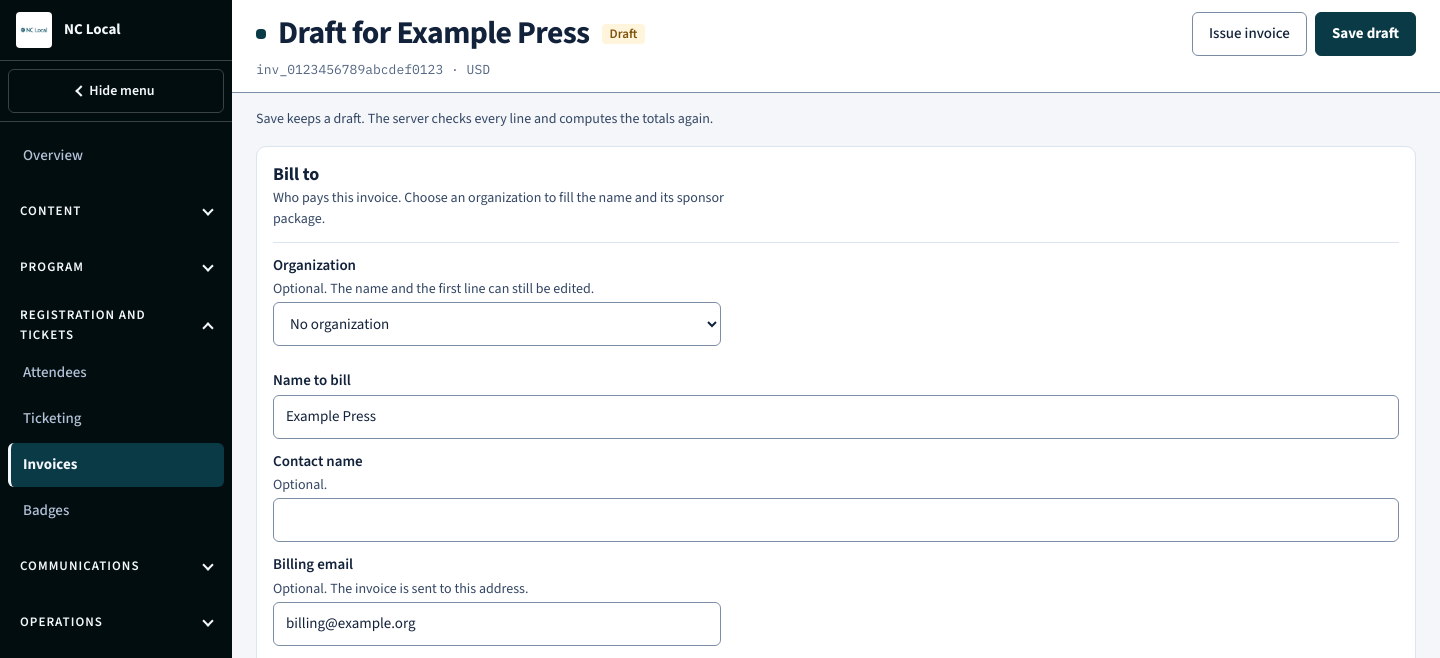
Test case: issuing an invoice › issues a saved draft after a confirmation that names the next number
Expected: the heading "Draft for Example Press" is shown, left=278, top=15, right=590, bottom=53
Click the button "Issue invoice".
click(1249, 34)  # box left=1192, top=12, right=1307, bottom=56
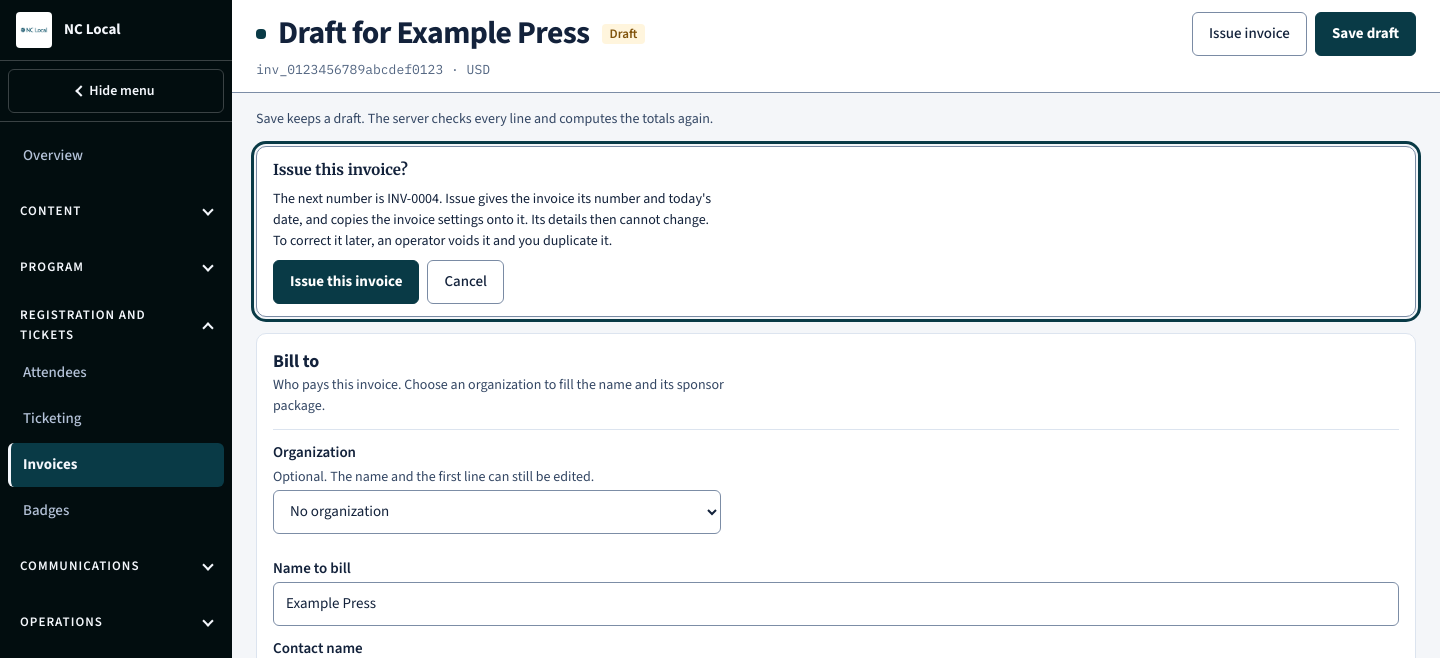
Expected: the heading "Issue this invoice?" is shown, left=273, top=160, right=408, bottom=178
Expected: the text "The next number is INV-0004." is shown, left=273, top=189, right=445, bottom=209
Click the button "Issue this invoice".
click(346, 282)  # box left=273, top=260, right=420, bottom=304
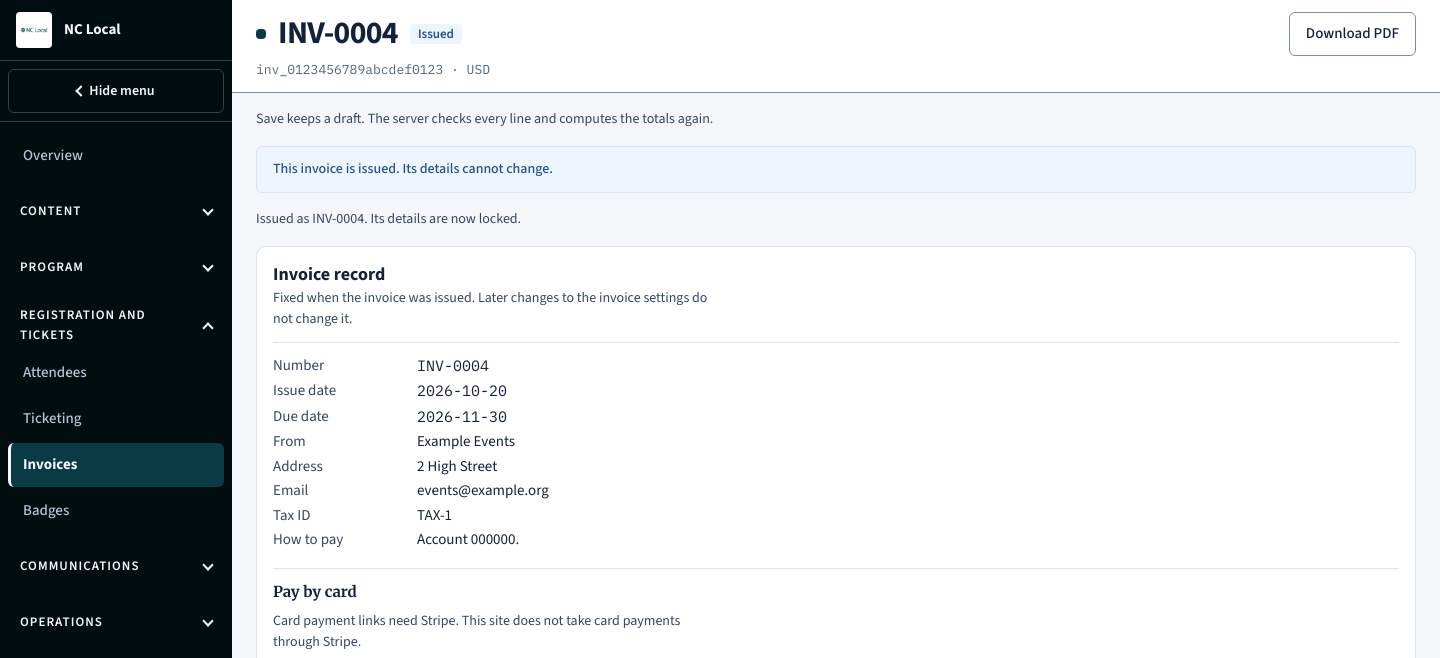
Expected: the heading "INV-0004" is shown, left=278, top=15, right=398, bottom=53
Expected: the button "Download PDF" is shown, left=1289, top=12, right=1416, bottom=56
Expected: the button "Save draft" is gone
